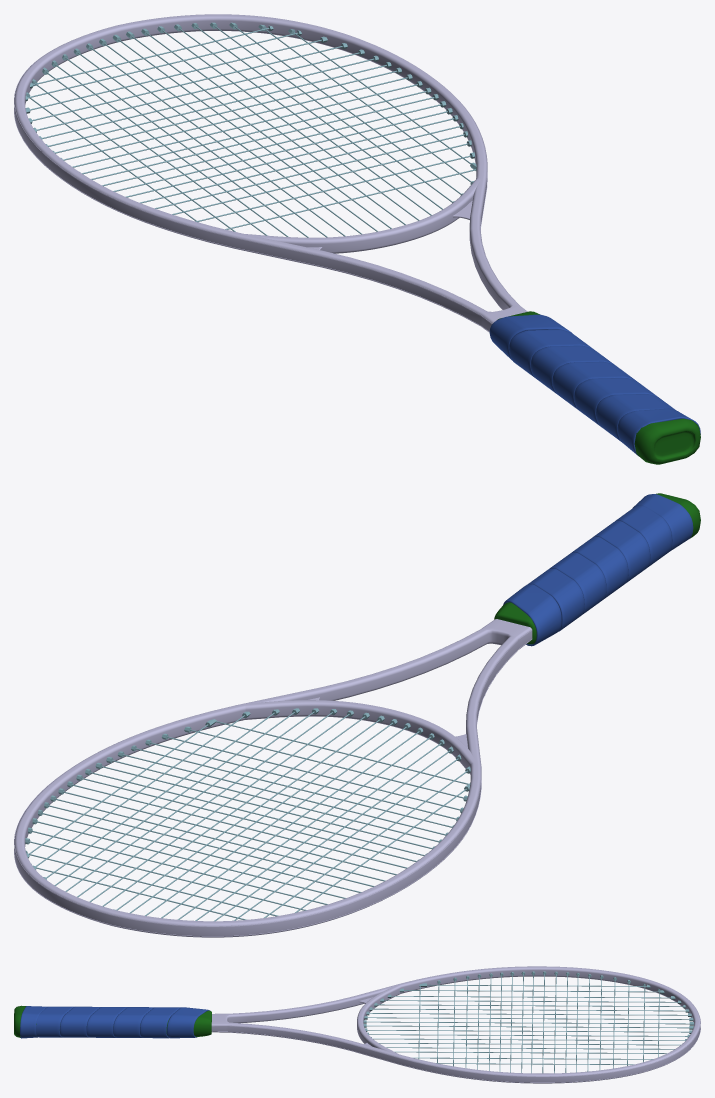
3 views of the same model, one above another, from view 1: azimuth 30°, elevation 25°; view 2: azimuth 150°, elevation 25°; view 3: azimuth 270°, elevation 25° (orthographic). The views are drawn at different scales.
Parts seen in each view (by area): view 1: arch_v27_tennisballetc:Arch27_002_03, arch_v27_tennisballetc:Arch27_002_13, arch_v27_tennisballetc:Arch27_002_12, arch_v27_tennisballetc:Arch27_002_02; view 2: arch_v27_tennisballetc:Arch27_002_03, arch_v27_tennisballetc:Arch27_002_13, arch_v27_tennisballetc:Arch27_002_12, arch_v27_tennisballetc:Arch27_002_02; view 3: arch_v27_tennisballetc:Arch27_002_03, arch_v27_tennisballetc:Arch27_002_13, arch_v27_tennisballetc:Arch27_002_12, arch_v27_tennisballetc:Arch27_002_02.
Boxes of the visible parts, bbox=[...] form: arch_v27_tennisballetc:Arch27_002_03: bbox=[14, 14, 527, 332]; arch_v27_tennisballetc:Arch27_002_13: bbox=[25, 22, 476, 237]; arch_v27_tennisballetc:Arch27_002_12: bbox=[489, 314, 700, 456]; arch_v27_tennisballetc:Arch27_002_02: bbox=[497, 311, 700, 464]; arch_v27_tennisballetc:Arch27_002_03: bbox=[14, 619, 532, 937]; arch_v27_tennisballetc:Arch27_002_13: bbox=[25, 708, 470, 921]; arch_v27_tennisballetc:Arch27_002_12: bbox=[503, 494, 693, 646]; arch_v27_tennisballetc:Arch27_002_02: bbox=[494, 493, 700, 644]; arch_v27_tennisballetc:Arch27_002_03: bbox=[211, 966, 700, 1083]; arch_v27_tennisballetc:Arch27_002_13: bbox=[363, 971, 693, 1073]; arch_v27_tennisballetc:Arch27_002_12: bbox=[20, 1006, 210, 1038]; arch_v27_tennisballetc:Arch27_002_02: bbox=[14, 1005, 211, 1037].
Bounding box in the file's own units: 0.0982 × 0.0102 × 0.2593.
